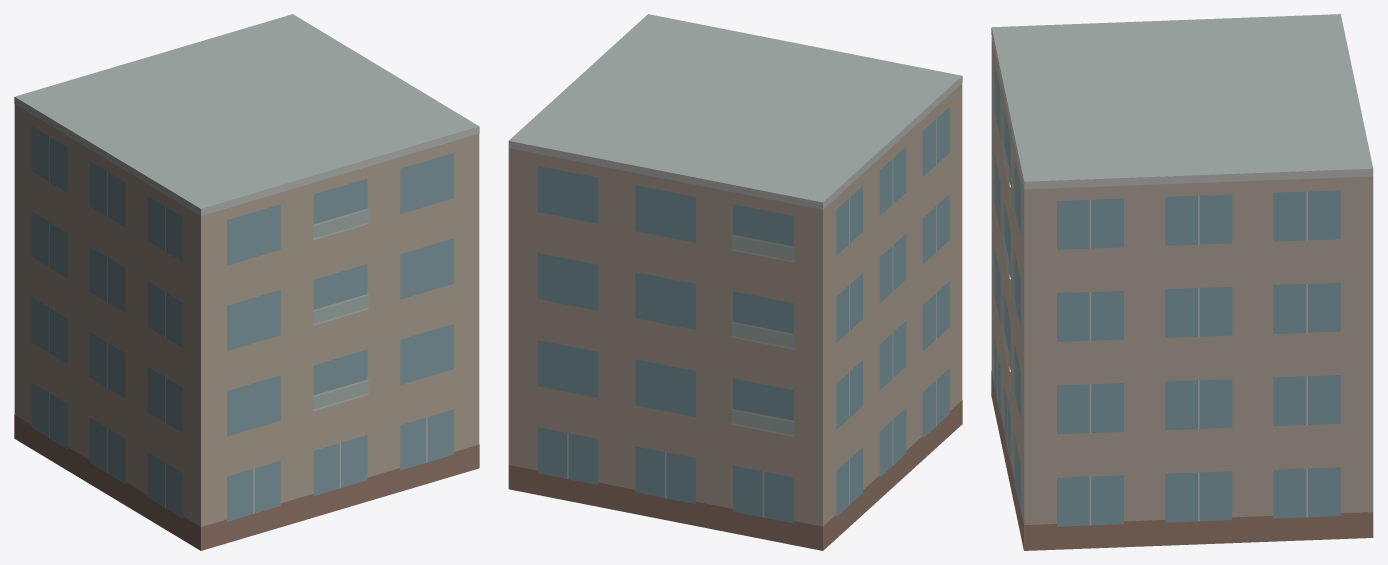
File: survey-upis-32743356.glb
3 views of the same model, side by side, from view 1: azimuth 30°, elevation 25°; view 2: azimuth 150°, elevation 25°; view 3: azimuth 270°, elevation 25° (orthographic). The views are drawn at different scales.
Visible parts, largest first — view 1: survey-upis-32743356.tmp; view 2: survey-upis-32743356.tmp; view 3: survey-upis-32743356.tmp.
Part boxes in pixels (x1,y1,x2,y2): survey-upis-32743356.tmp: (14, 14, 479, 550); survey-upis-32743356.tmp: (508, 14, 962, 550); survey-upis-32743356.tmp: (991, 14, 1373, 550).
Bounding box in the file's own units: 11.36 × 11.65 × 10.93.
